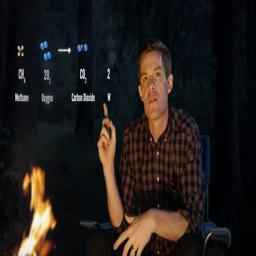fire: (17, 165, 57, 256)
